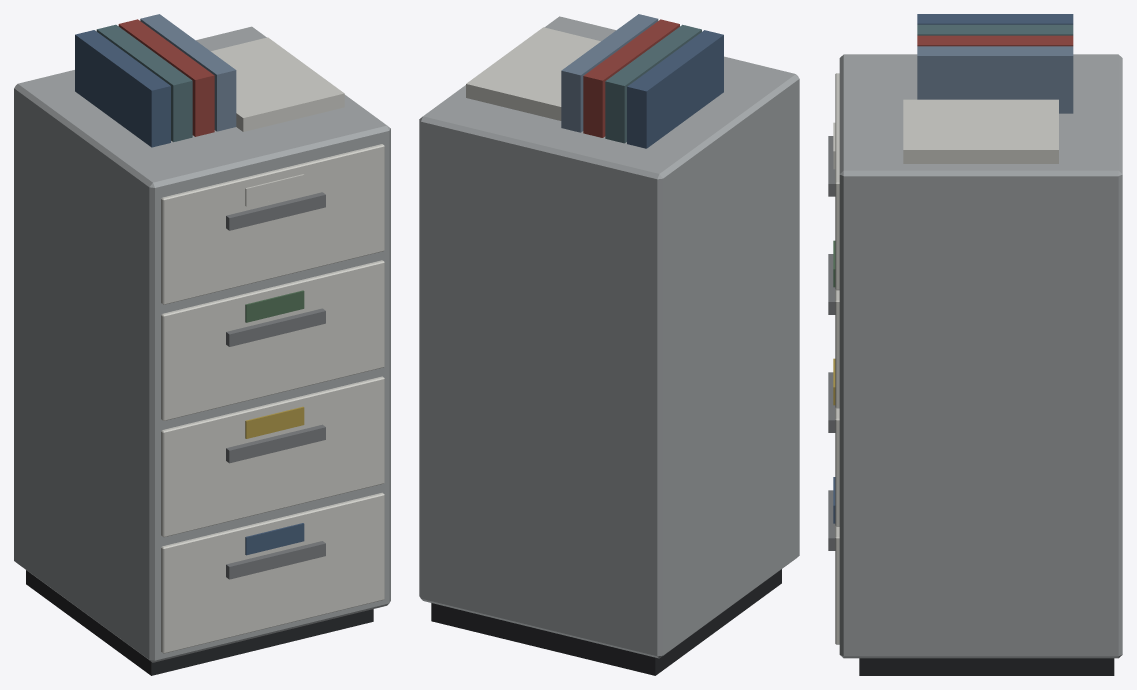
Rendered from astro_filing_cabinet.fbx.
The picture shows the model from 3 angles, left to right: view 1: azimuth 30°, elevation 25°; view 2: azimuth 150°, elevation 25°; view 3: azimuth 270°, elevation 25°; orthographic projection.
Parts seen in each view (by area): view 1: FilingCabinet_Body; view 2: FilingCabinet_Body; view 3: FilingCabinet_Body.
Part boxes in pixels (x1,y1,x2,y2): FilingCabinet_Body: (14,14,390,675); FilingCabinet_Body: (419,14,799,675); FilingCabinet_Body: (828,14,1122,675).
Bounding box in the file's own units: 100 × 221 × 104.
